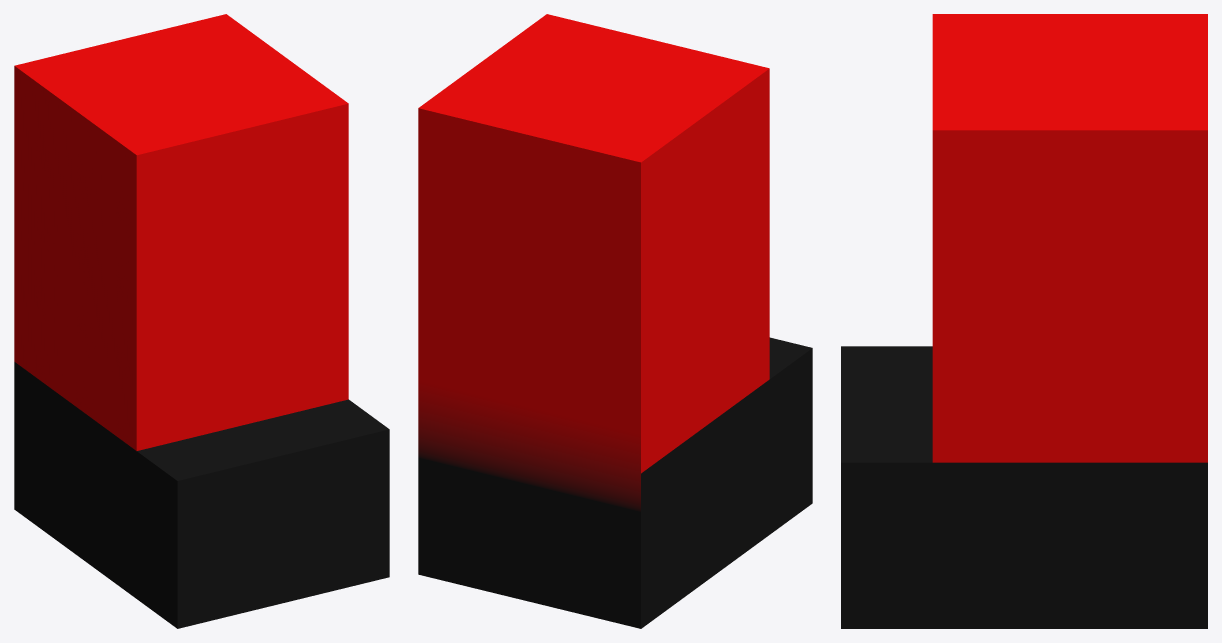
File: recolor_legR.fbx
3 views of the same model, side by side, from view 1: azimuth 30°, elevation 25°; view 2: azimuth 150°, elevation 25°; view 3: azimuth 270°, elevation 25° (orthographic). The views are drawn at different scales.
Parts seen in each view (by area): view 1: recolor_legR; view 2: recolor_legR; view 3: recolor_legR.
Part boxes in pixels (left/top/right/bottom): recolor_legR: left=14, top=14, right=389, bottom=628; recolor_legR: left=418, top=14, right=812, bottom=628; recolor_legR: left=841, top=14, right=1207, bottom=628.
Size of the model in its own units: 3 by 6 by 4.
Materials: 1 (1 with a texture image).
